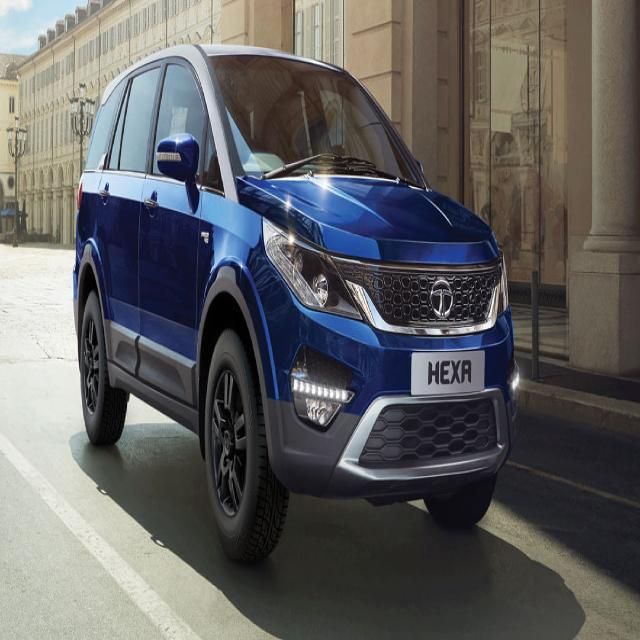SUV: (73, 31, 525, 568)
